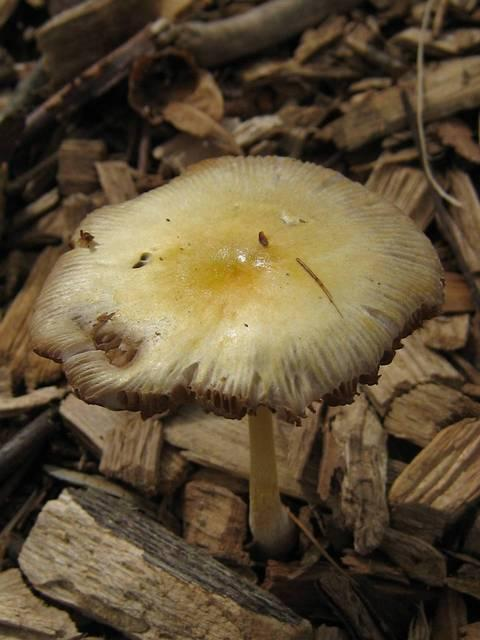edible_mushroom: (27, 152, 446, 558)
